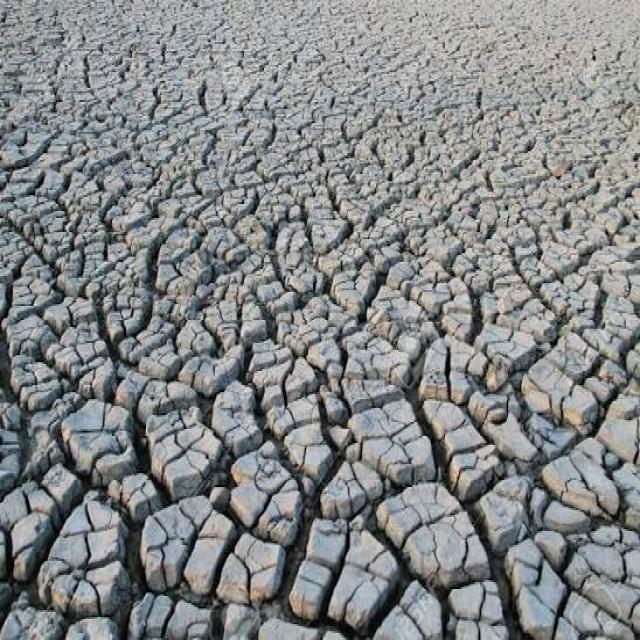suelo_seco: (152, 51, 453, 585)
